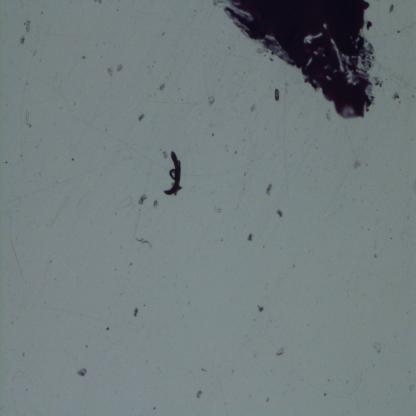Air bubble: (170, 168, 176, 181)
Background material: (136, 233, 153, 251), (138, 191, 148, 205), (372, 340, 382, 354), (265, 183, 274, 197), (207, 94, 216, 108), (77, 367, 88, 378), (275, 205, 283, 220), (106, 65, 115, 78), (391, 91, 401, 102), (276, 345, 285, 357), (273, 88, 280, 103), (352, 160, 362, 170), (26, 20, 32, 34), (138, 112, 145, 123), (132, 307, 139, 318), (249, 101, 256, 112), (387, 3, 394, 14), (196, 389, 203, 399), (160, 81, 166, 92), (256, 304, 264, 312), (117, 63, 123, 73), (153, 199, 159, 208), (20, 35, 26, 44), (248, 233, 253, 243)
Glass filter fibre: (23, 111, 32, 128)
Microfibre: (163, 150, 182, 195)
Pen: (223, 0, 377, 123)
